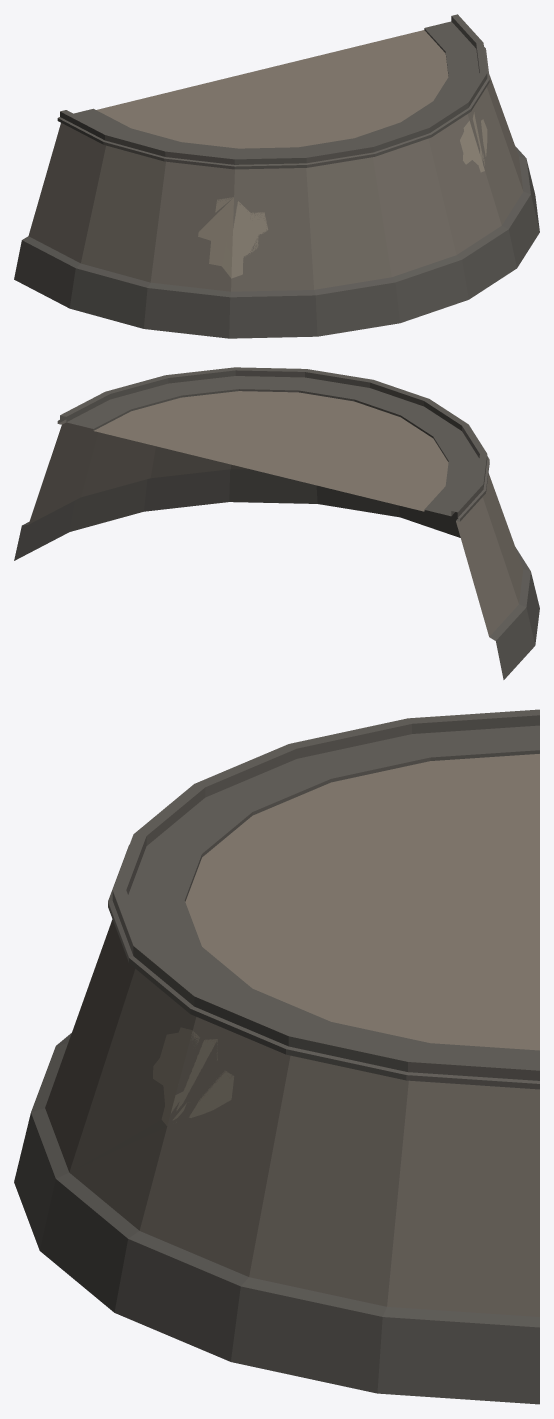
File: SM_Bld_Fort_Base_Circle_01.glb
3 views of the same model, one above another, from view 1: azimuth 30°, elevation 25°; view 2: azimuth 150°, elevation 25°; view 3: azimuth 270°, elevation 25° (orthographic). The views are drawn at different scales.
Visible parts, largest first — view 1: SM_Bld_Fort_Base_Circle_01_part00; view 2: SM_Bld_Fort_Base_Circle_01_part00; view 3: SM_Bld_Fort_Base_Circle_01_part00.
Boxes of the visible parts, x1,y1,x2,y2 form: SM_Bld_Fort_Base_Circle_01_part00: [14, 14, 539, 338]; SM_Bld_Fort_Base_Circle_01_part00: [14, 367, 539, 679]; SM_Bld_Fort_Base_Circle_01_part00: [14, 709, 539, 1404].
Size of the model in its own units: 34.41 by 10.54 by 17.21.
Materials: 1 (1 with a texture image).
